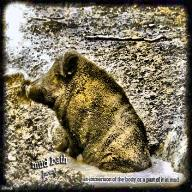boar: (11, 39, 165, 191)
